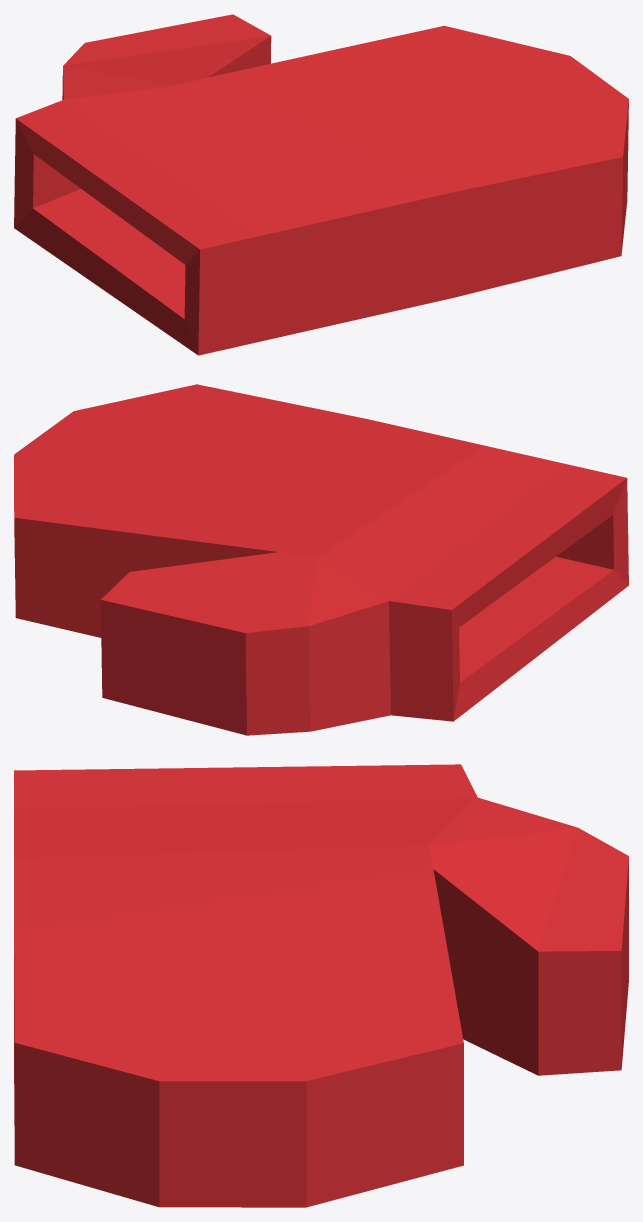
The model's file is gauntlets.fbx.
3 views of the same model, one above another, from view 1: azimuth 30°, elevation 25°; view 2: azimuth 150°, elevation 25°; view 3: azimuth 270°, elevation 25° (orthographic). The views are drawn at different scales.
Parts seen in each view (by area): view 1: gauntlets; view 2: gauntlets; view 3: gauntlets.
Boxes of the visible parts, x1=… form: gauntlets: x1=14, y1=14, x2=628, y2=355; gauntlets: x1=14, y1=384, x2=628, y2=735; gauntlets: x1=14, y1=764, x2=628, y2=1207.
Size of the model in its own units: 58.67 by 14.39 by 50.47.
